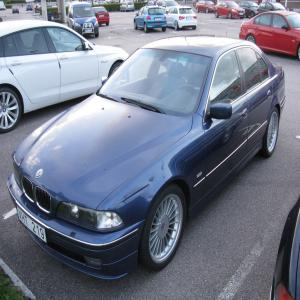Vehicle-registration-plate: (17, 207, 47, 243), (154, 18, 162, 26), (186, 17, 195, 22), (86, 29, 92, 36), (240, 12, 245, 18)
